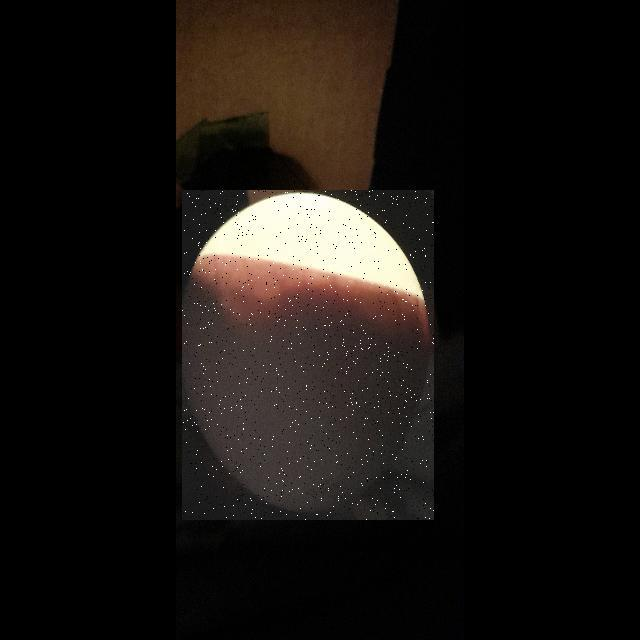Fertile: (182, 190, 434, 520)
